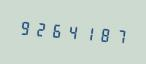eight: (97, 22, 112, 47)
four: (65, 19, 80, 44)
nine: (17, 15, 32, 40)
one: (81, 20, 96, 46)
seven: (113, 23, 128, 48)
six: (49, 18, 64, 43)
two: (33, 16, 48, 41)
